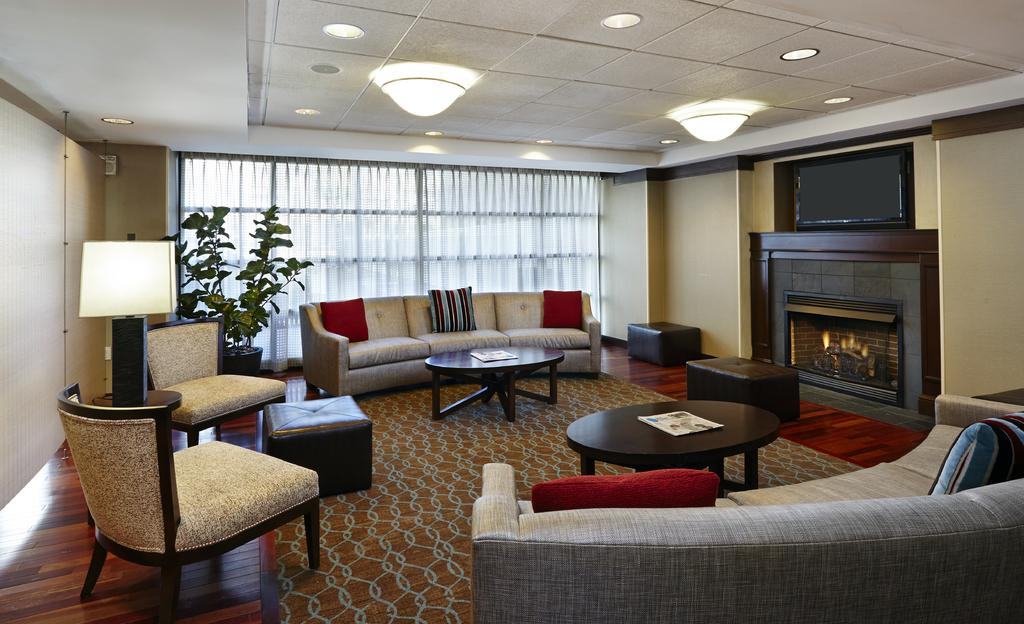fire: (815, 333, 868, 369)
